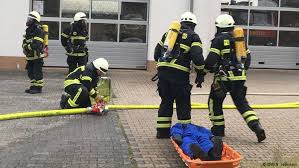emergent: (202, 13, 266, 139), (155, 10, 201, 120), (62, 59, 107, 107), (22, 11, 47, 93), (64, 11, 89, 63)
